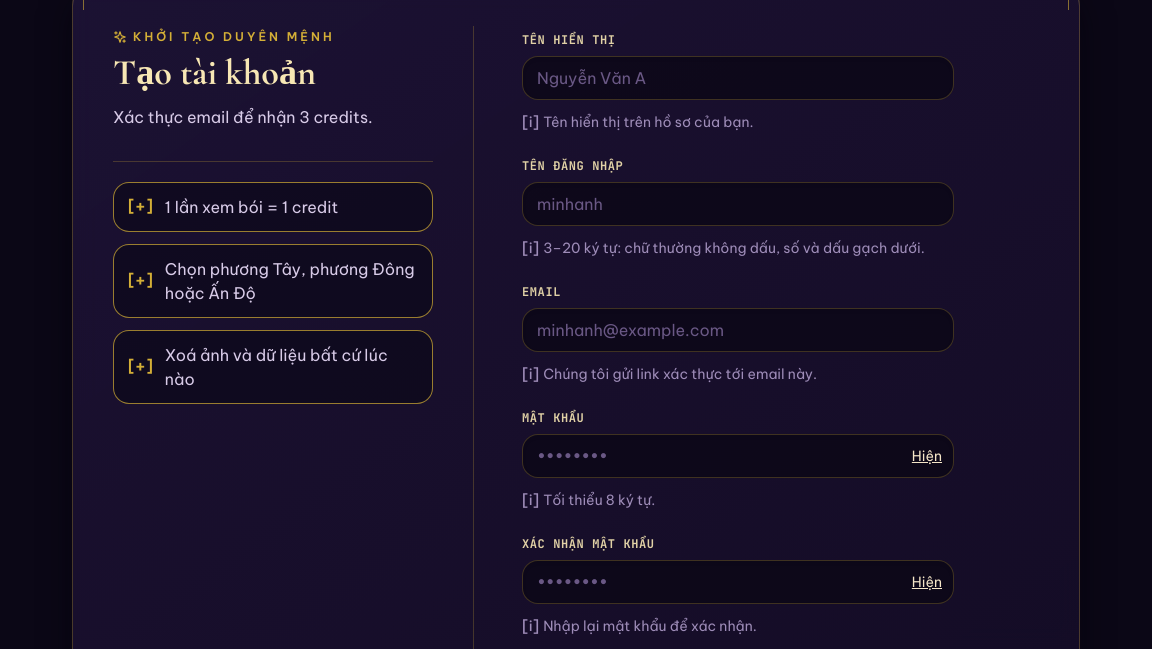
Scenario: RegisterPage (Stitch Screen 59bf8c4b91a04c18a0afbf3139812e0d) › should show validation error when confirm password does not match
Step 1. Type "Trần Văn B" into the field labelled "Tên hiển thị" → (738,78), box [522,56,954,100]
Step 2. Type "tranvanb" into the field labelled "Tên đăng nhập" → (738,204), box [522,182,954,226]
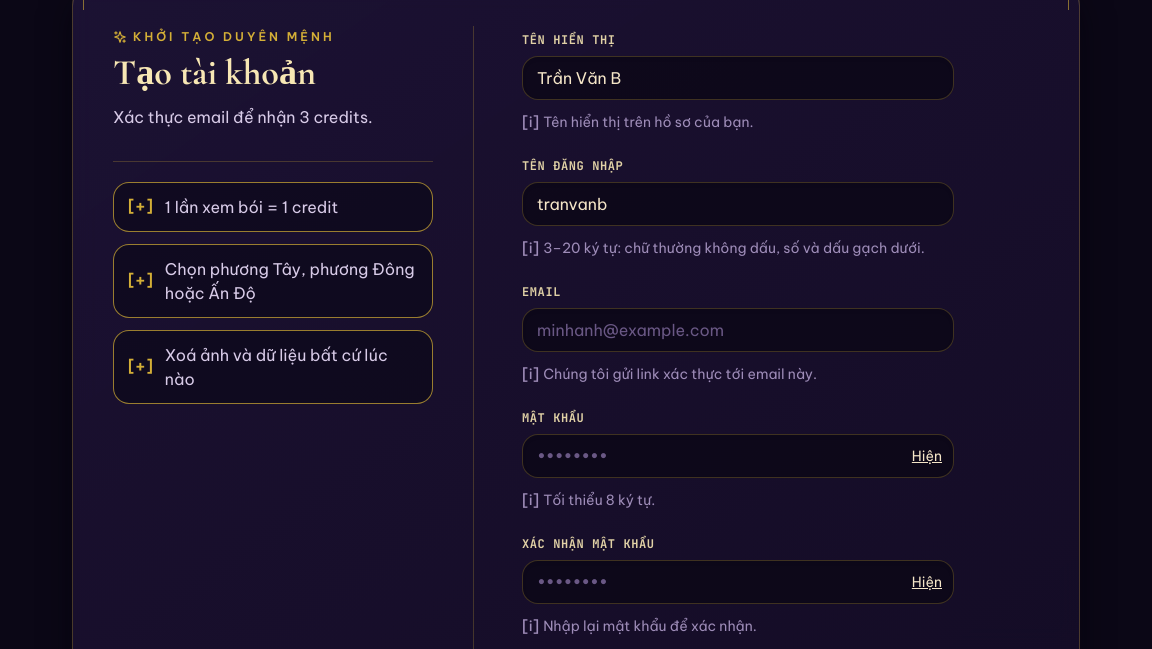
Step 3. Type "tranvanb@example.com" into the field labelled "Email" → (738,330), box [522,308,954,352]
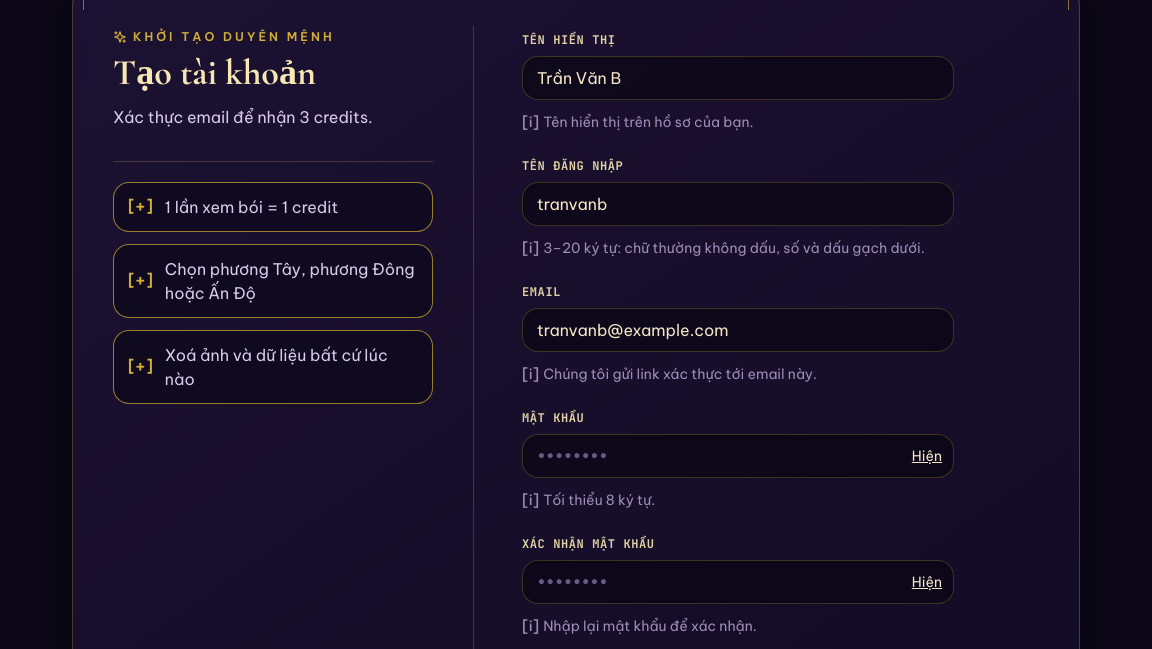
Step 4. Type "BaoMat_987654" into the password field labelled "Mật khẩu" → (738,456), box [522,434,954,478]
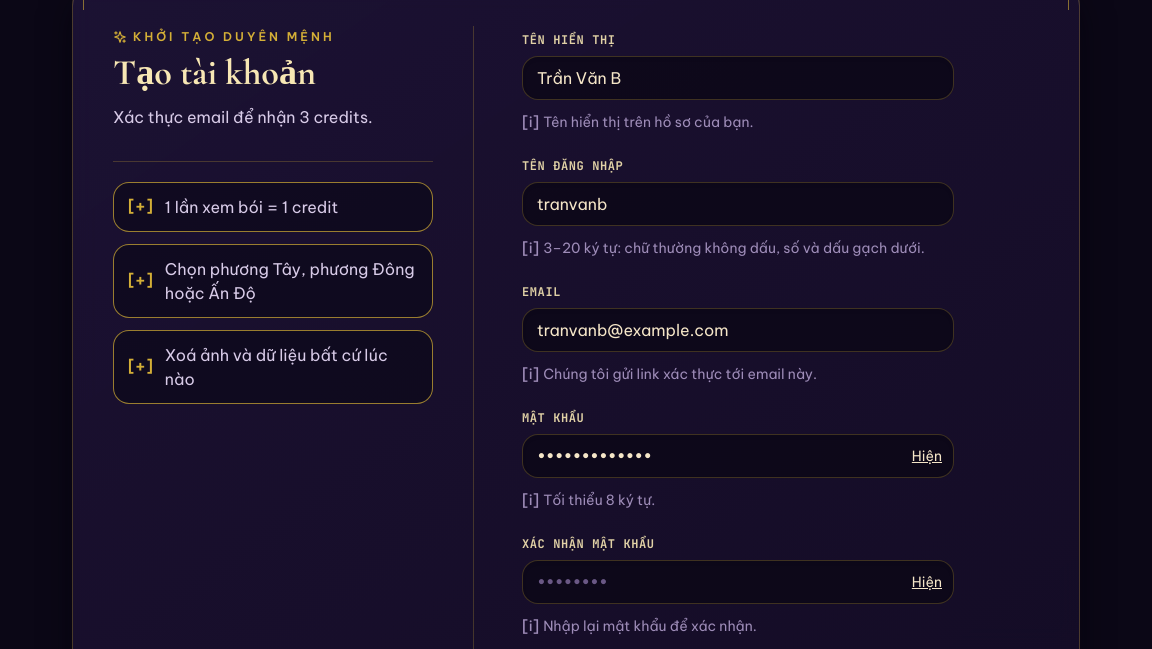
Step 5. Type "Khac_BaoMat" into the password field labelled "Xác nhận mật khẩu" → (738,582), box [522,560,954,604]
(page scrolled)
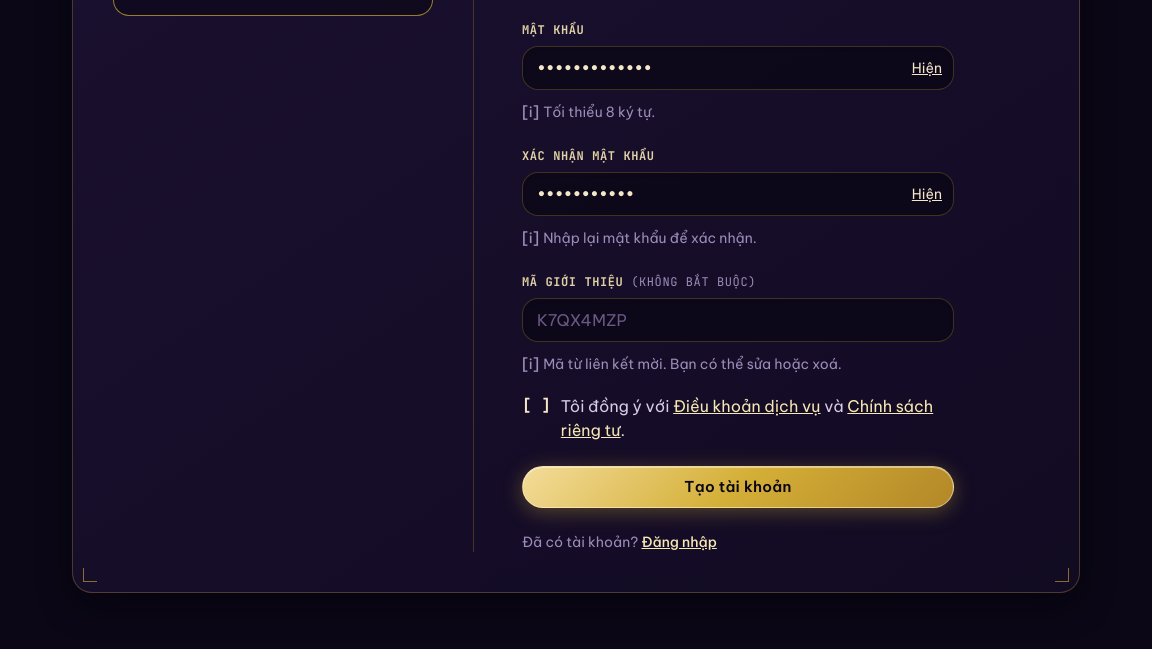
Check terms
Step 6. Click the checkbox labelled "Tôi đồng ý với" → (738,418), box [522,394,954,442]
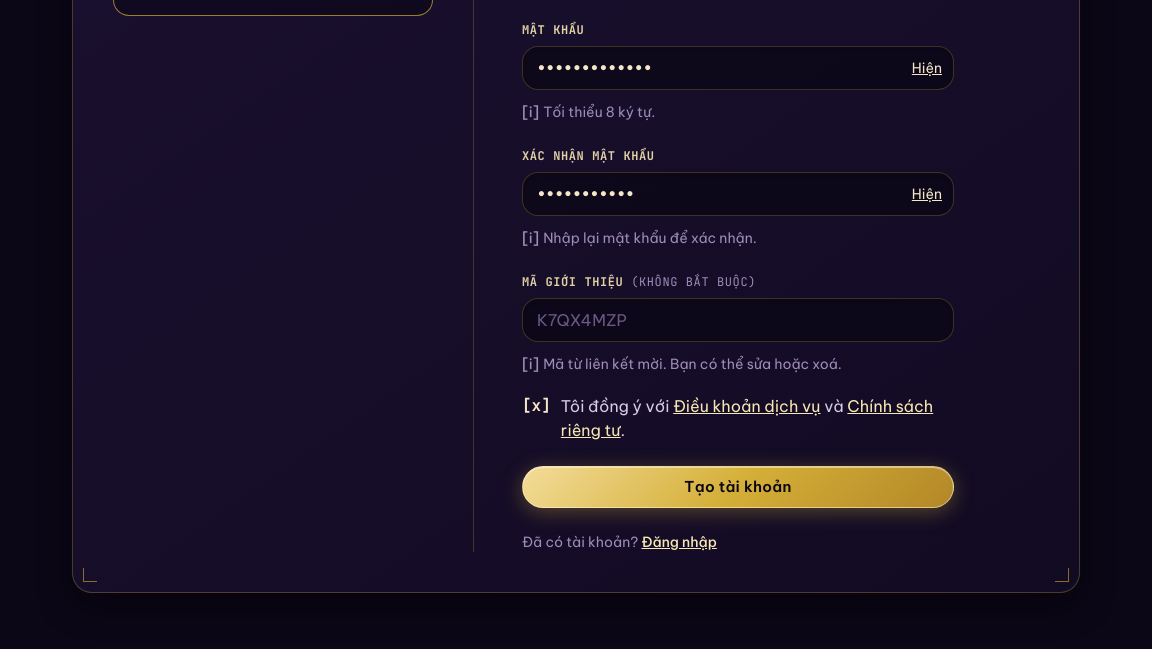
Step 7. Click the button "Tạo tài khoản" → (738,487), box [522,466,954,508]
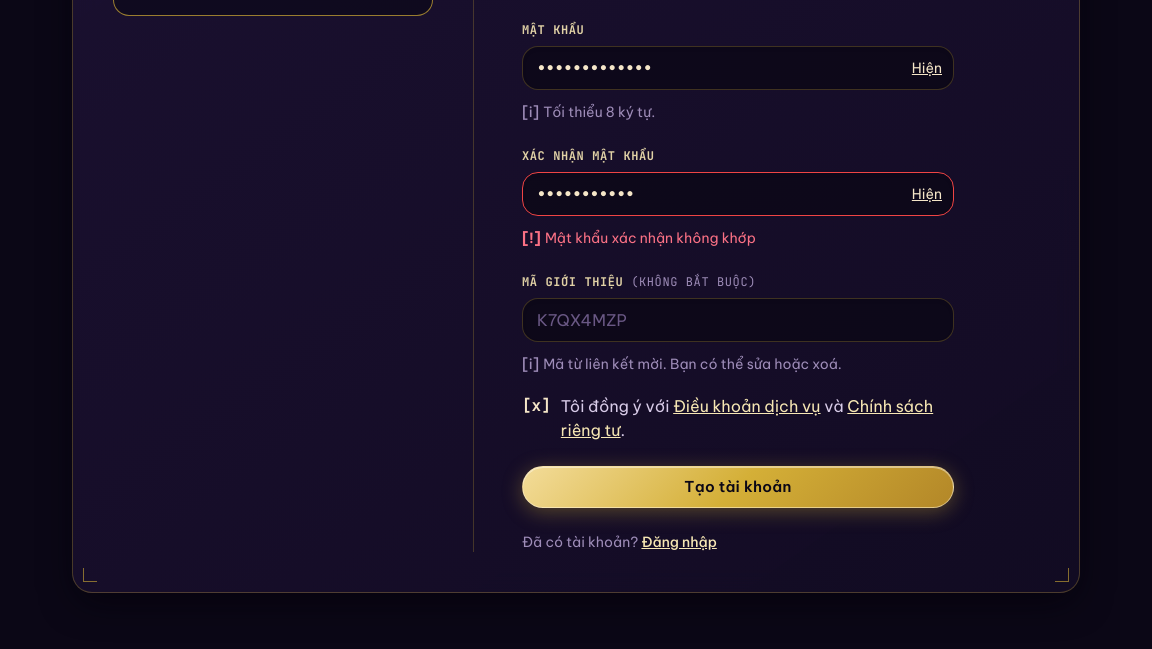
Expected: the text "Mật khẩu xác nhận không khớp" is shown, [545,228,756,248]
